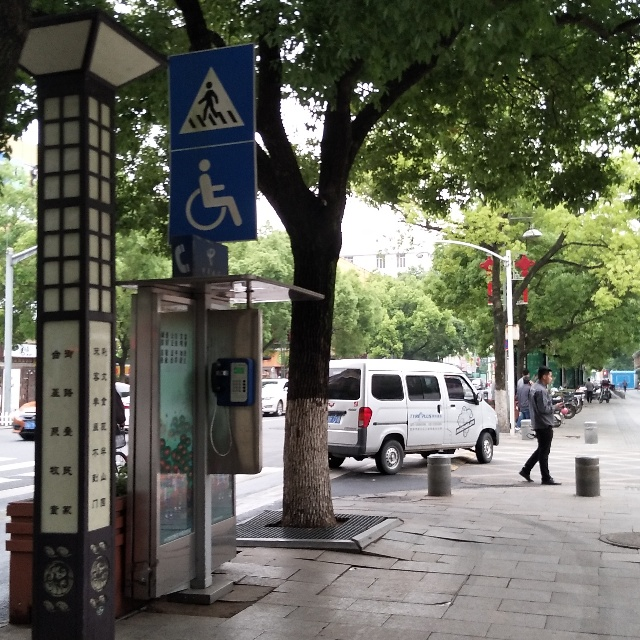crosswalk: (171, 59, 251, 138)
